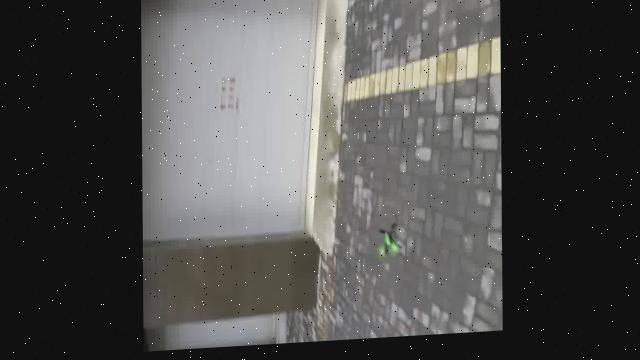drone: (363, 217, 410, 271)
